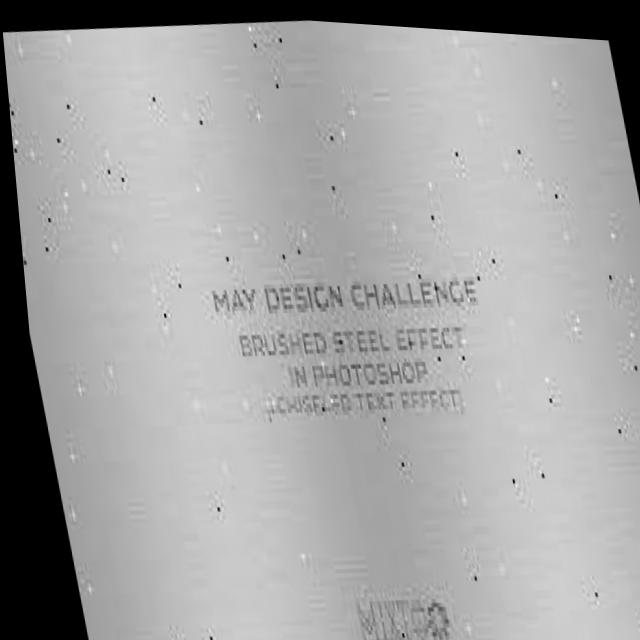ocr: (200, 244, 520, 459)
